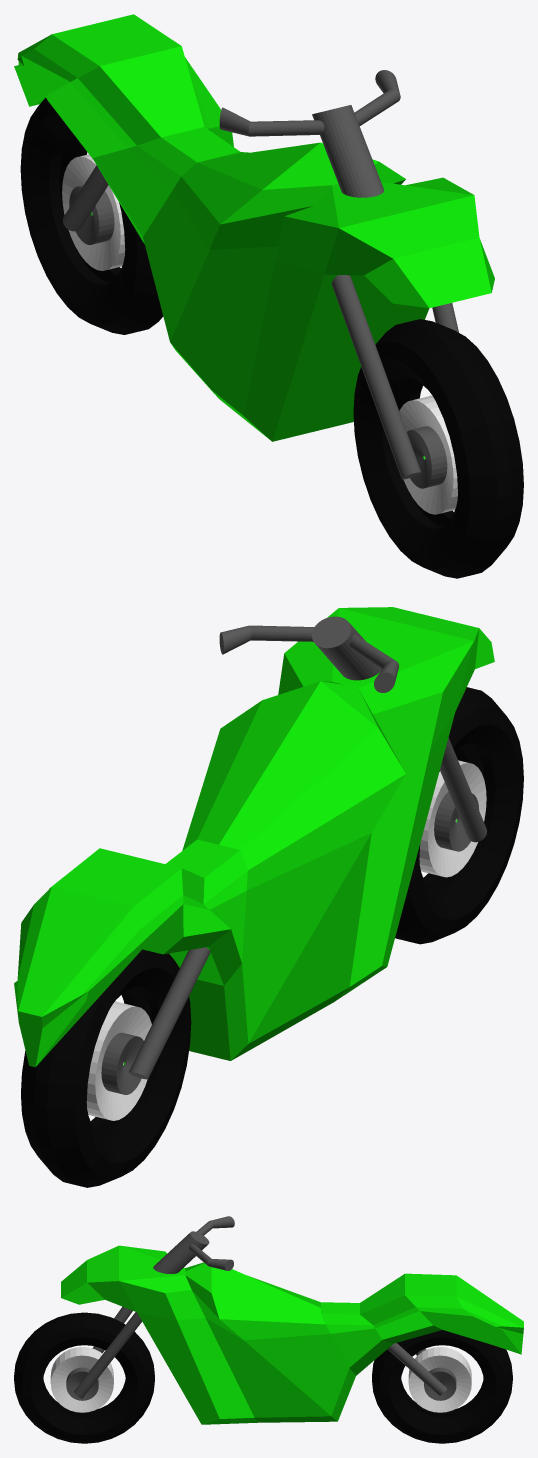
File: motocycle2.fbx
The picture shows the model from 3 angles, top to bottom: view 1: azimuth 30°, elevation 25°; view 2: azimuth 150°, elevation 25°; view 3: azimuth 270°, elevation 25°; orthographic projection. The views are drawn at different scales.
Visible parts, largest first — view 1: motorcycle, Circle, Circle.002, Cylinder, Circle.001, Circle.003, Cylinder.001, Cylinder.002; view 2: motorcycle, Circle.002, Circle, Circle.003, Circle.001, Cylinder, Cylinder.002, Cylinder.001; view 3: motorcycle, Circle, Circle.002, Circle.003, Circle.001, Cylinder, Cylinder.002, Cylinder.001.
Boxes of the visible parts, bbox=[...] form: motorcycle: bbox=[14, 14, 494, 488]; Circle: bbox=[353, 319, 523, 578]; Circle.002: bbox=[20, 97, 163, 334]; Cylinder: bbox=[312, 105, 384, 197]; Circle.001: bbox=[399, 395, 457, 514]; Circle.003: bbox=[62, 154, 125, 270]; Cylinder.001: bbox=[219, 107, 324, 136]; Cylinder.002: bbox=[354, 70, 400, 125]; motorcycle: bbox=[14, 607, 494, 1094]; Circle.002: bbox=[21, 949, 191, 1187]; Circle: bbox=[395, 687, 523, 944]; Circle.003: bbox=[86, 1001, 151, 1120]; Circle.001: bbox=[419, 760, 486, 877]; Cylinder: bbox=[311, 616, 381, 680]; Cylinder.002: bbox=[219, 625, 314, 654]; Cylinder.001: bbox=[350, 635, 398, 692]; motorcycle: bbox=[61, 1245, 523, 1424]; Circle: bbox=[14, 1312, 154, 1443]; Circle.002: bbox=[372, 1330, 512, 1443]; Circle.003: bbox=[408, 1347, 471, 1412]; Circle.001: bbox=[50, 1347, 113, 1412]; Cylinder: bbox=[153, 1231, 209, 1273]; Cylinder.002: bbox=[189, 1244, 233, 1270]; Cylinder.001: bbox=[196, 1216, 234, 1235].
Size of the model in its own units: 107 by 215 by 475.
